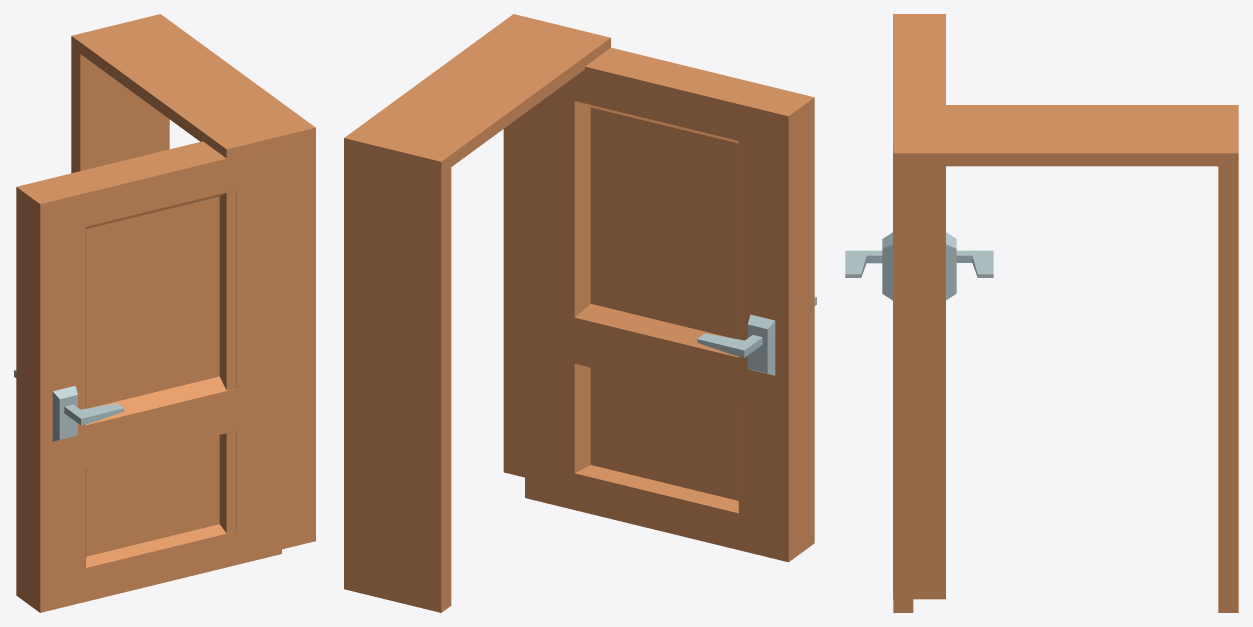
Rendered from puertaAnimada.fbx.
The picture shows the model from 3 angles, left to right: view 1: azimuth 30°, elevation 25°; view 2: azimuth 150°, elevation 25°; view 3: azimuth 270°, elevation 25°; orthographic projection. The views are drawn at different scales.
Parts seen in each view (by area): view 1: door.003, doorway.003; view 2: door.003, doorway.003; view 3: doorway.003, door.003.
Part boxes in pixels (left/top/right/bottom): door.003: left=14, top=141, right=281, bottom=612; doorway.003: left=71, top=14, right=315, bottom=549; door.003: left=525, top=47, right=816, bottom=562; doorway.003: left=344, top=14, right=610, bottom=612; doorway.003: left=893, top=105, right=1238, bottom=612; door.003: left=845, top=14, right=993, bottom=599.
Bounding box in the file's own units: 1674 × 2423 × 1859.
